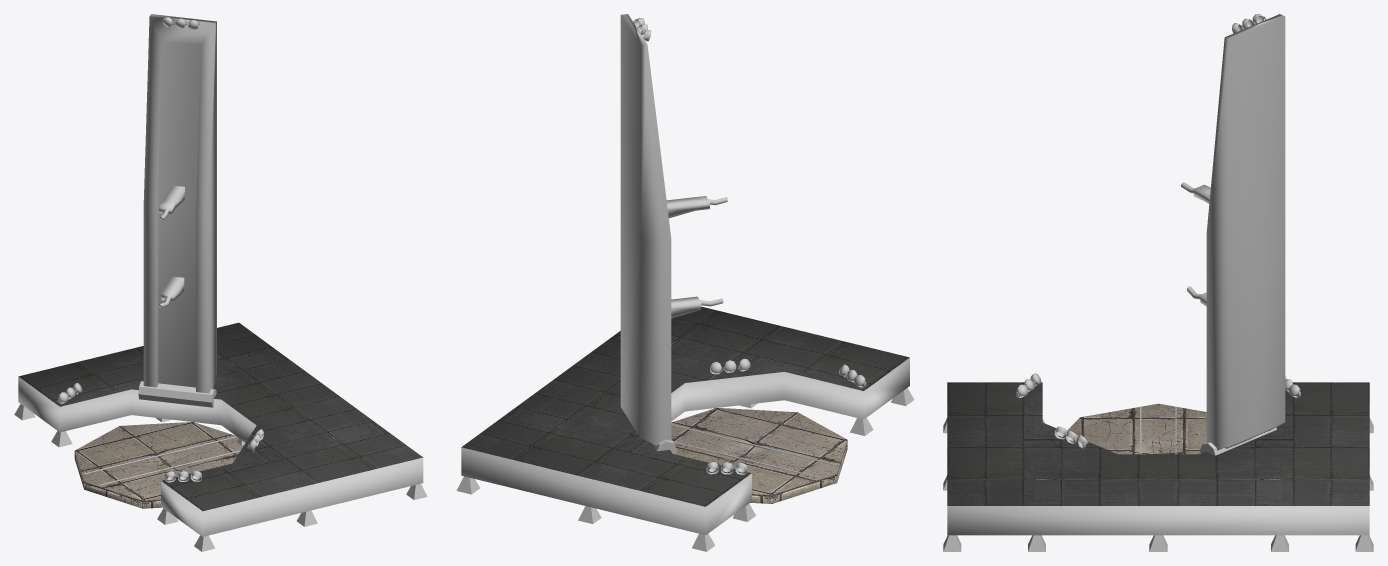
Rendered from Rocket_Pad_Gantry_Track_v3.fbx.
The picture shows the model from 3 angles, left to right: view 1: azimuth 30°, elevation 25°; view 2: azimuth 150°, elevation 25°; view 3: azimuth 270°, elevation 25°; orthographic projection. The views are drawn at different scales.
Visible parts, largest first — view 1: Rocket_Pad_Combined, Rocket_Gantry_Combined; view 2: Rocket_Pad_Combined, Rocket_Gantry_Combined; view 3: Rocket_Pad_Combined, Rocket_Gantry_Combined.
Part boxes in pixels (bbox=[...]): Rocket_Pad_Combined: bbox=[14, 322, 427, 551]; Rocket_Gantry_Combined: bbox=[138, 14, 216, 407]; Rocket_Pad_Combined: bbox=[456, 306, 914, 551]; Rocket_Gantry_Combined: bbox=[620, 14, 727, 454]; Rocket_Pad_Combined: bbox=[943, 373, 1373, 551]; Rocket_Gantry_Combined: bbox=[1181, 14, 1285, 455].
Size of the model in its own units: 7.22 by 11.3 by 9.38.
